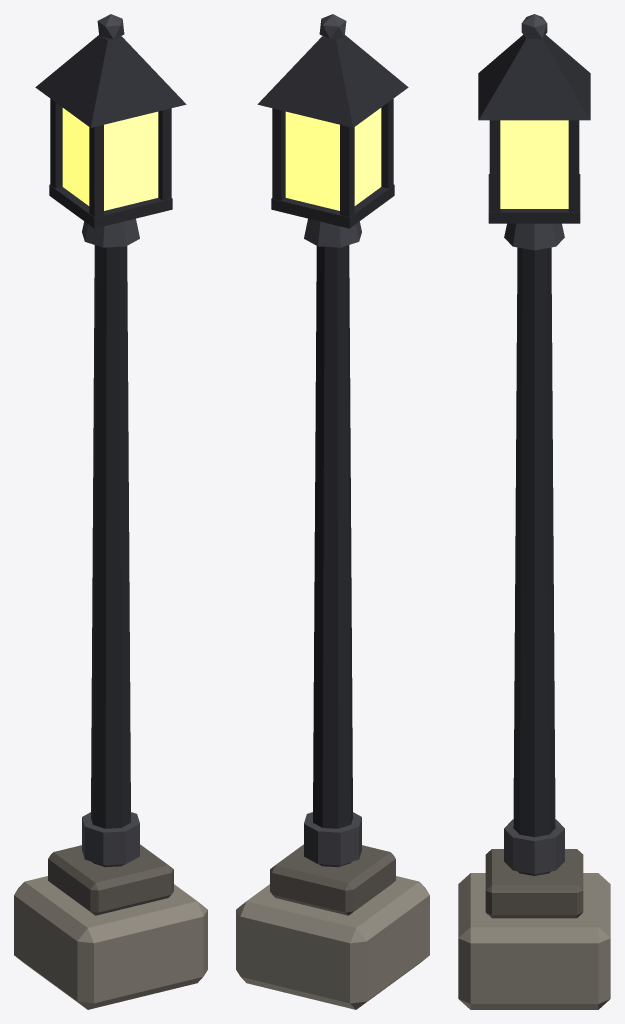
The model's file is town_lamp.glb.
3 renders of one model, left to right at view 1: azimuth 30°, elevation 25°; view 2: azimuth 150°, elevation 25°; view 3: azimuth 270°, elevation 25°, orthographic.
Parts seen in each view (by area): view 1: town_lamp; view 2: town_lamp; view 3: town_lamp.
Part boxes in pixels (x1,y1,x2,y2): town_lamp: [14, 14, 207, 1009]; town_lamp: [236, 14, 429, 1009]; town_lamp: [458, 14, 610, 1009].
Size of the model in its own units: 0.5 by 3.51 by 0.5.
